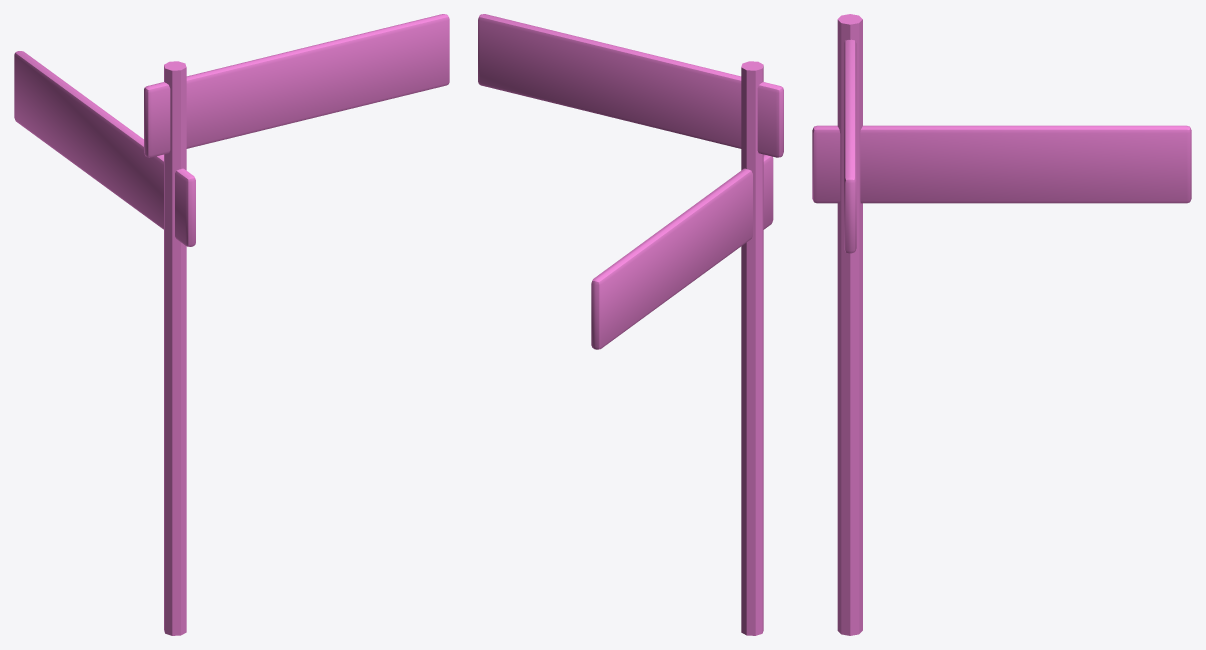
Rendered from Street_Sign.fbx.
The picture shows the model from 3 angles, left to right: view 1: azimuth 30°, elevation 25°; view 2: azimuth 150°, elevation 25°; view 3: azimuth 270°, elevation 25°; orthographic projection. The views are drawn at different scales.
Visible parts, largest first — view 1: Sign; view 2: Sign; view 3: Sign.
Part boxes in pixels (x1=…): Sign: x1=14, y1=14, x2=449, y2=635; Sign: x1=478, y1=14, x2=783, y2=635; Sign: x1=812, y1=14, x2=1191, y2=635.
Bounding box in the file's own units: 4.5 × 8 × 4.5.
1 material, 1 textured.
